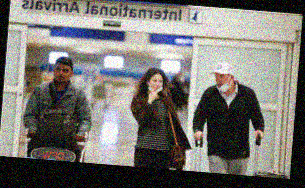mask_weared_incorrect: (213, 72, 230, 89), (147, 76, 163, 91)
without_mask: (53, 64, 70, 82)
